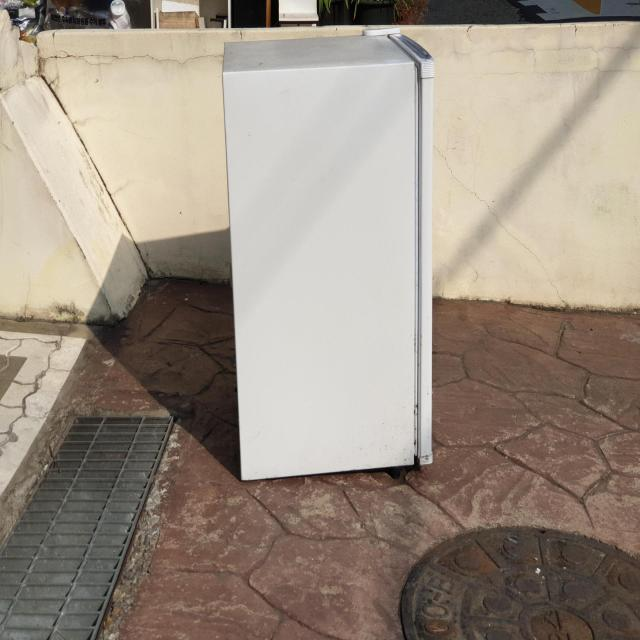refrigerator: (222, 28, 434, 480)
